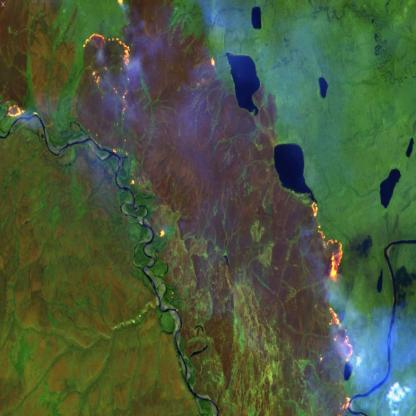fire: (304, 191, 363, 416), (73, 0, 141, 120), (2, 96, 28, 128)
